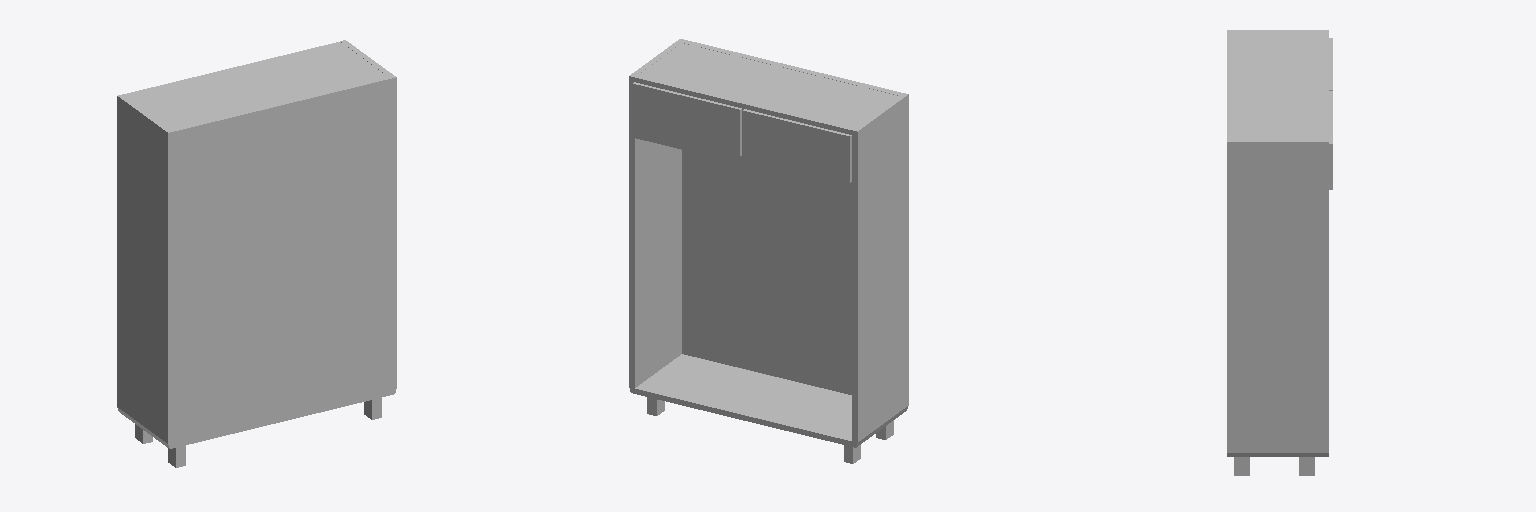
File: Closet Frame.obj
3 views of the same model, side by side, from view 1: azimuth 30°, elevation 25°; view 2: azimuth 150°, elevation 25°; view 3: azimuth 270°, elevation 25° (orthographic).
Visible parts, largest first — view 1: Closet_Frame; view 2: Closet_Frame; view 3: Closet_Frame.
Part boxes in pixels (bbox=[...]): Closet_Frame: bbox=[117, 40, 396, 467]; Closet_Frame: bbox=[629, 39, 908, 463]; Closet_Frame: bbox=[1227, 30, 1332, 475].
Size of the model in its own units: 2 by 2.85 by 0.8031.